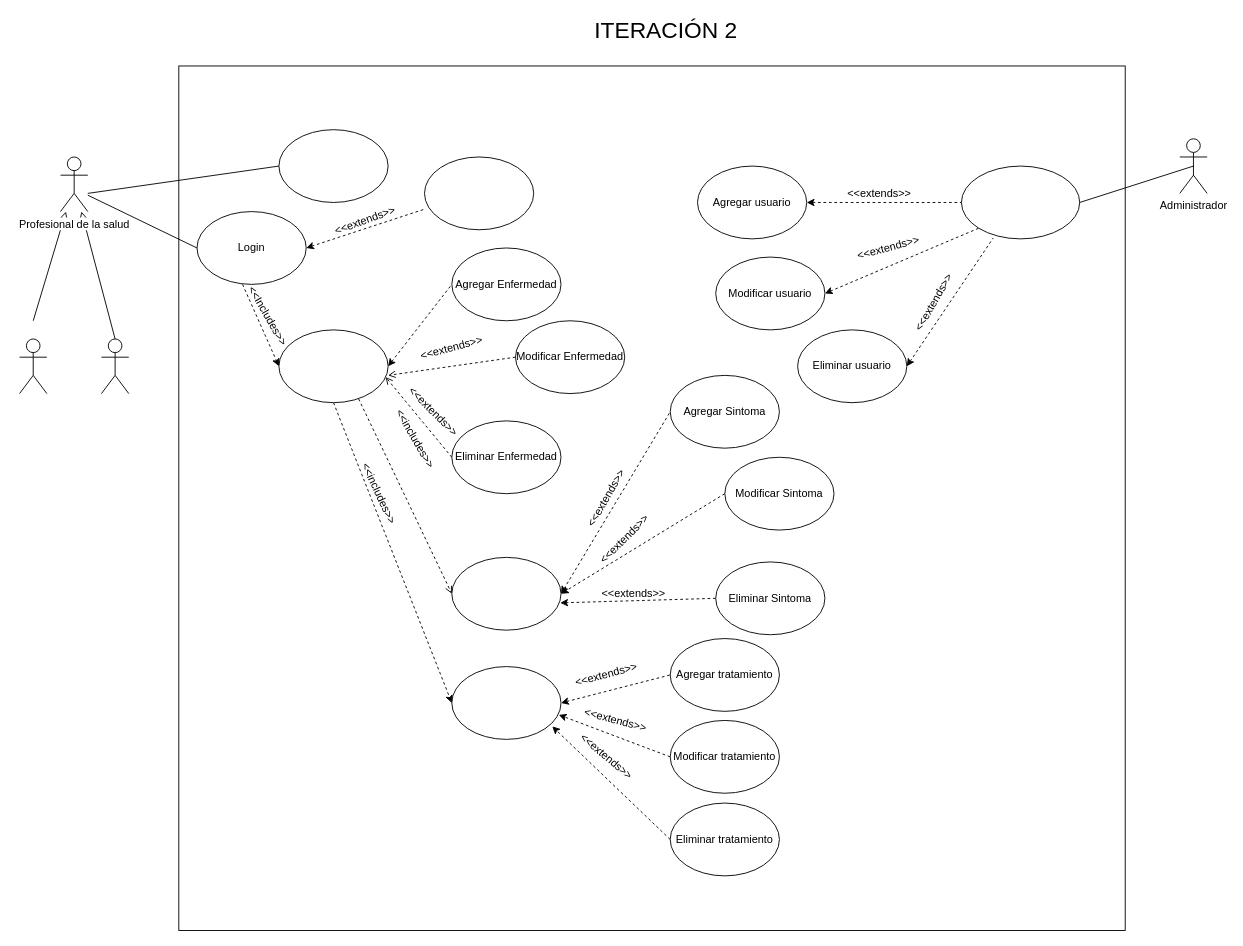
The diagram is 1243 pixels wide and 946 high, and some of its shapes have lost their labels. The centre of each missing label's shape, as x and y in pixels:
"Gestión de Enfermedades" goes at point 333,366.
"Gestión de Síntomas" goes at point 506,593.
"Gestión de tratamientos" goes at point 506,702.
"Gestión de usuarios" goes at point 1020,202.
"Investigador" goes at point 115,366.
"Médico" goes at point 33,366.
"Olvidó contraseña" goes at point 479,193.
"Registro de usuarios" goes at point 333,165.
